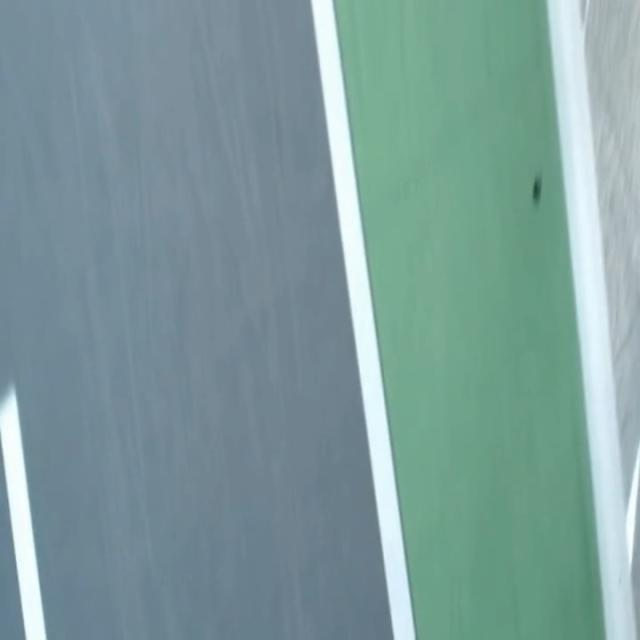center: (0, 386, 46, 639)
right: (311, 0, 414, 639)
